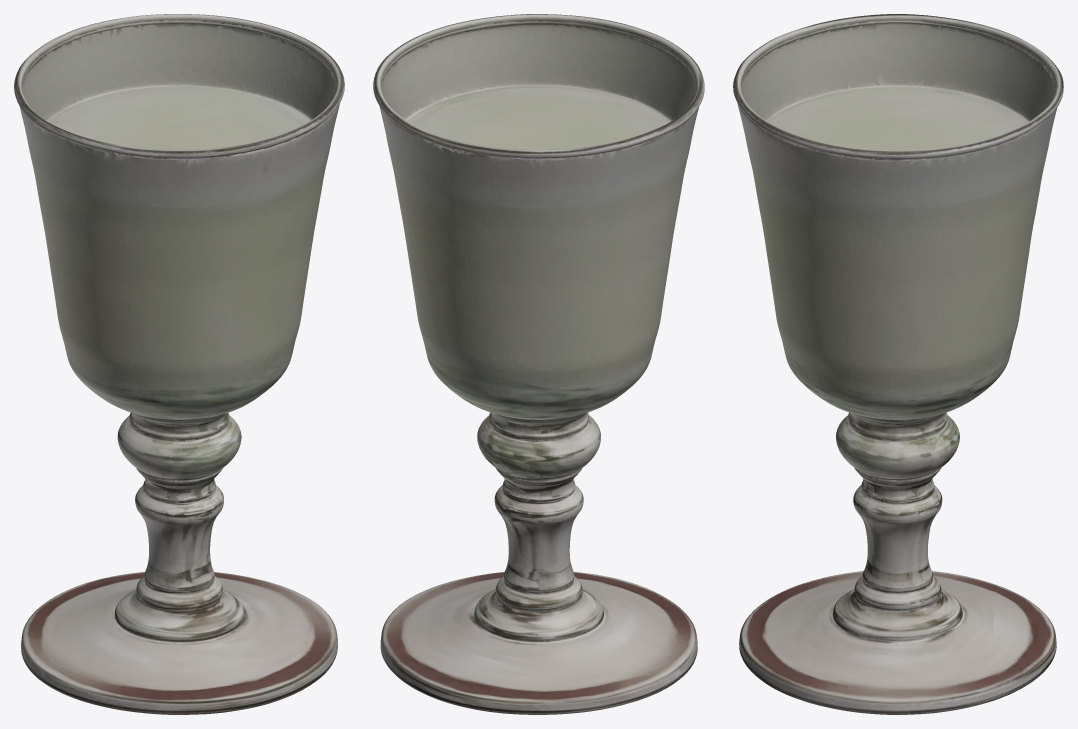
The model's file is glass cup.fbx.
3 renders of one model, left to right at view 1: azimuth 30°, elevation 25°; view 2: azimuth 150°, elevation 25°; view 3: azimuth 270°, elevation 25°, orthographic.
Parts seen in each view (by area): view 1: tripo_node_bc09bb3a; view 2: tripo_node_bc09bb3a; view 3: tripo_node_bc09bb3a.
Part boxes in pixels (<box>): tripo_node_bc09bb3a: <box>14,14,344,714</box>; tripo_node_bc09bb3a: <box>373,14,704,714</box>; tripo_node_bc09bb3a: <box>733,14,1063,714</box>.
Bounding box in the file's own units: 52.2 × 51.93 × 97.99.
Materials: 1 (1 with a texture image).
